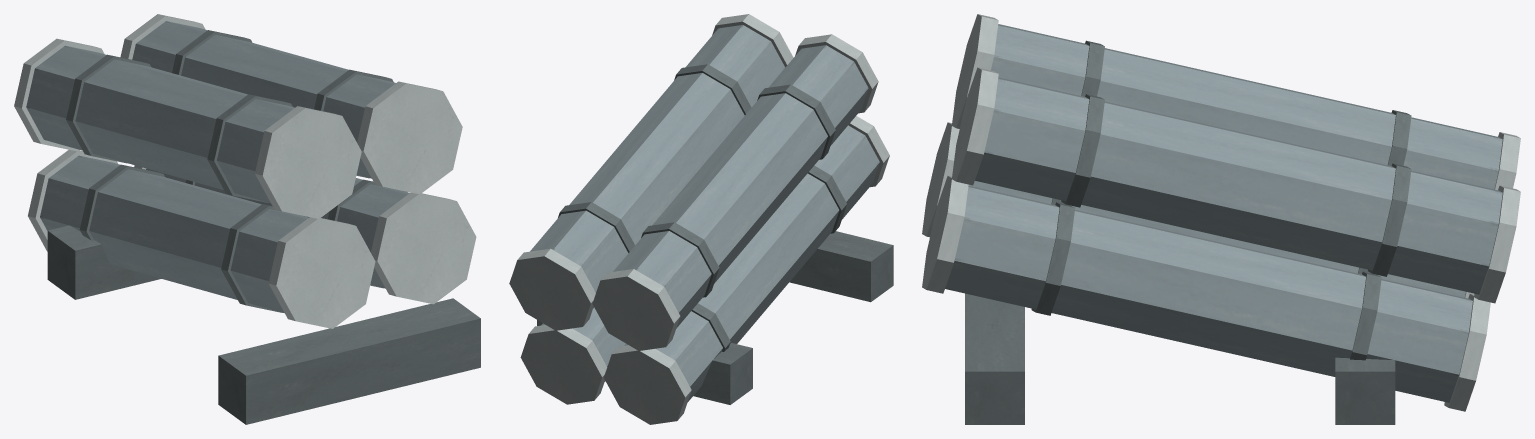
Rendered from mount_spruance_harpoon.glb.
3 views of the same model, side by side, from view 1: azimuth 30°, elevation 25°; view 2: azimuth 150°, elevation 25°; view 3: azimuth 270°, elevation 25° (orthographic). The views are drawn at different scales.
Parts seen in each view (by area): view 1: MESH_SPRUANCE_TEMPLATE_harpoon.002; view 2: MESH_SPRUANCE_TEMPLATE_harpoon.002; view 3: MESH_SPRUANCE_TEMPLATE_harpoon.002.
Boxes of the visible parts, x1,y1,x2,y2 form: MESH_SPRUANCE_TEMPLATE_harpoon.002: [14, 14, 480, 424]; MESH_SPRUANCE_TEMPLATE_harpoon.002: [509, 14, 893, 424]; MESH_SPRUANCE_TEMPLATE_harpoon.002: [922, 14, 1520, 424].
Size of the model in its own units: 157 by 200 by 320.
Materials: 1 (1 with a texture image).
